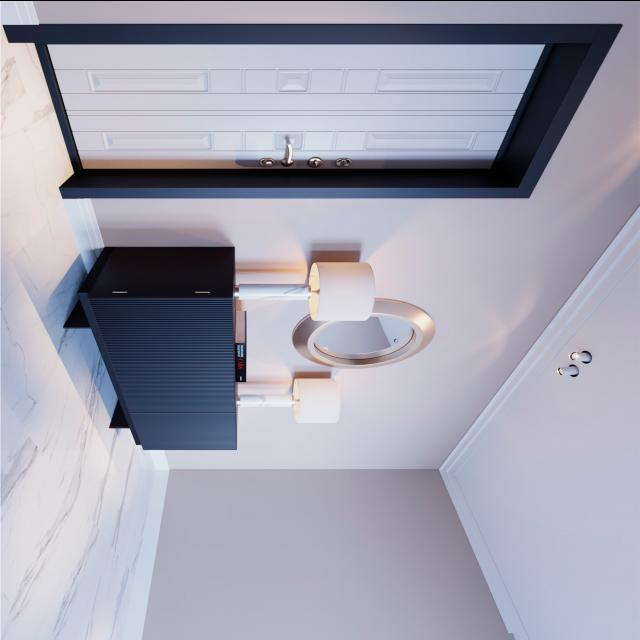close: (44, 35, 564, 181)
